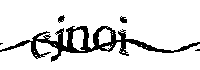c: (29, 29, 53, 60)
i: (118, 15, 129, 58)
j: (51, 11, 64, 63)
n: (67, 24, 91, 52)
o: (91, 24, 118, 54)
